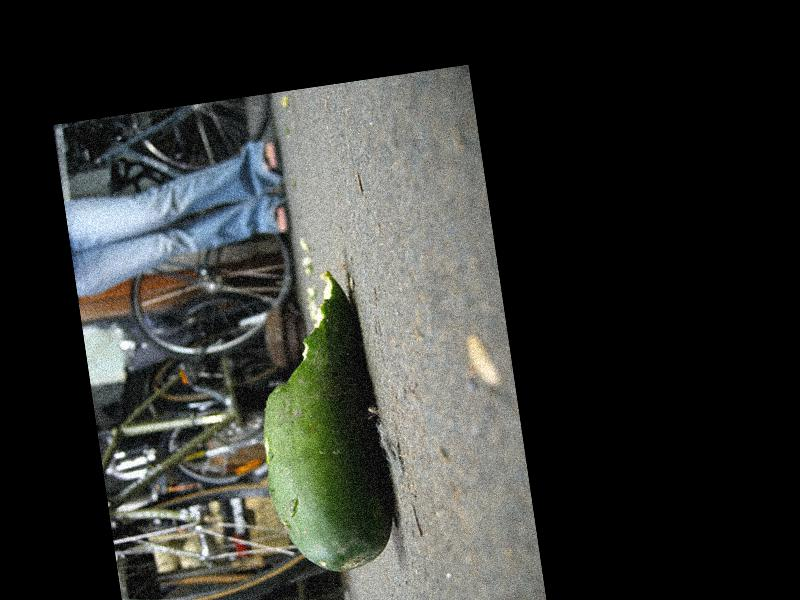Cucumber: (239, 263, 398, 579)
